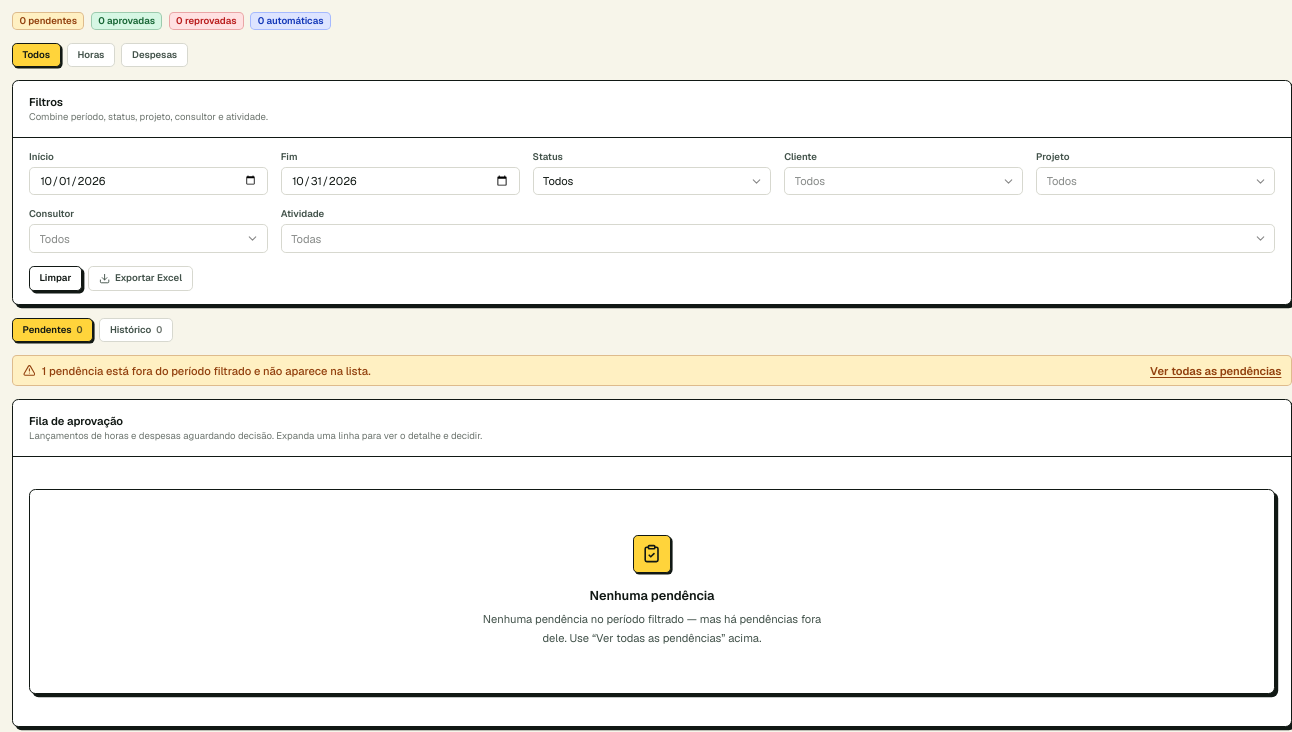
Test: ApprovalQueue › warns about pending items hidden by the month default and reveals them on demand
The width and height of the screenshot is (1292, 732).
Expected: the button "Zeca Antigo" is not shown
Expected: the text "fora do período filtrado" is shown, [42,363,371,379]
# (c) "Ver todas as pendências" clears only the period and reveals it.
Step 1. Click the button "Ver todas as pendências" → (1216, 371), box [1150,363,1281,379]
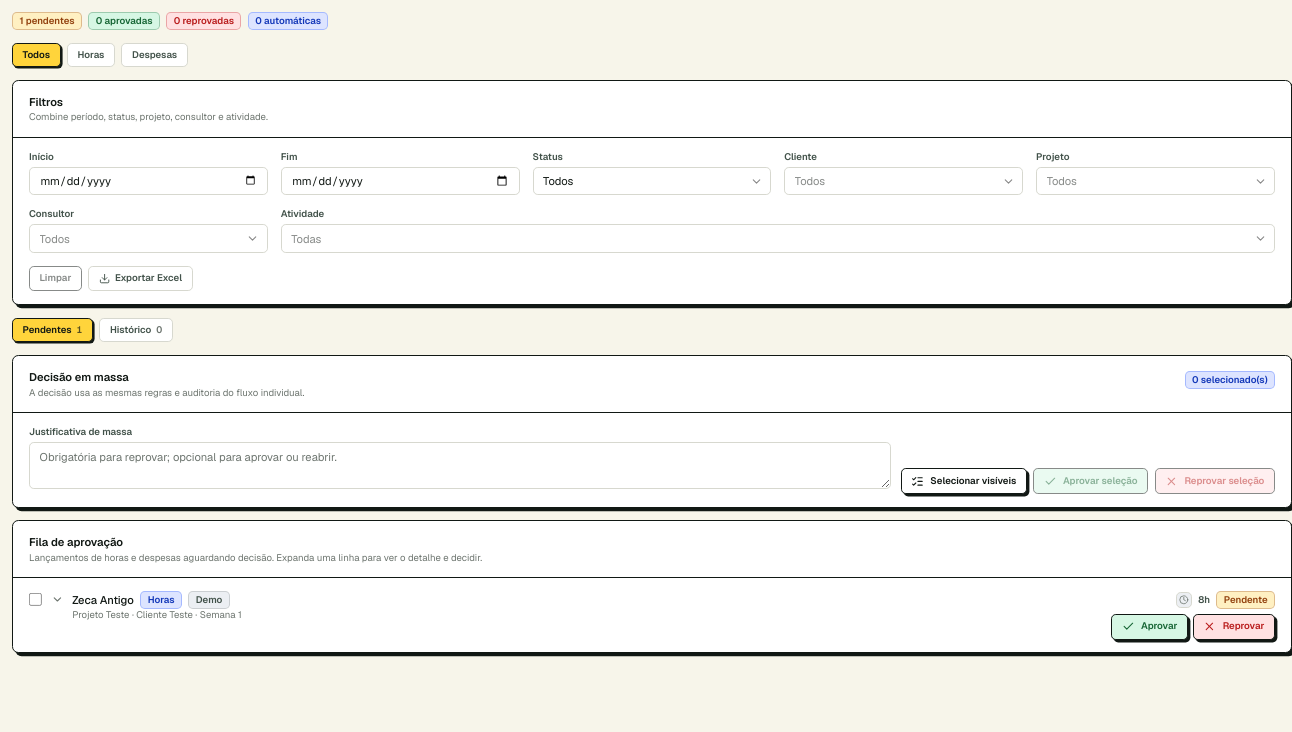
Result: the button "Zeca Antigo" is shown at [51,591,1102,622]
Result: the text "fora do período filtrado" is gone
